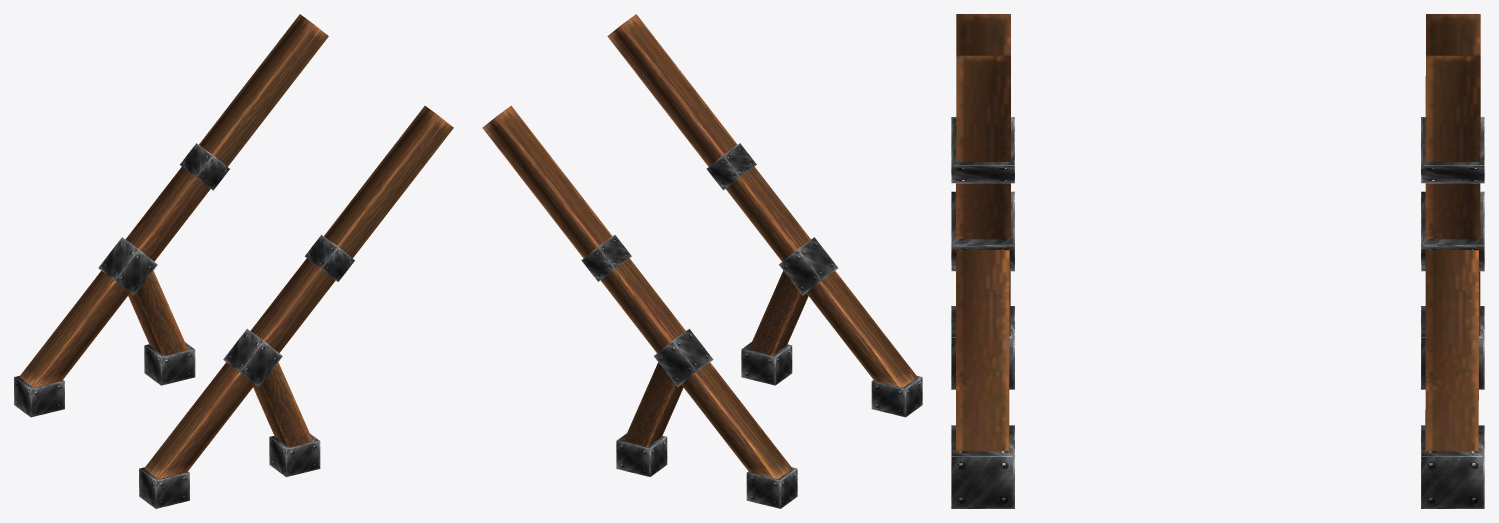
File: INST_SWORDLIGHT_WATERWHLMOUNT.fbx
3 renders of one model, left to right at view 1: azimuth 30°, elevation 25°; view 2: azimuth 150°, elevation 25°; view 3: azimuth 270°, elevation 25°, orthographic. The views are drawn at different scales.
Visible parts, largest first — view 1: INST_SWORDLIGHT_WATERWHLMOUNT; view 2: INST_SWORDLIGHT_WATERWHLMOUNT; view 3: INST_SWORDLIGHT_WATERWHLMOUNT.
Boxes of the visible parts, x1,y1,x2,y2 form: INST_SWORDLIGHT_WATERWHLMOUNT: [14, 14, 453, 508]; INST_SWORDLIGHT_WATERWHLMOUNT: [482, 14, 922, 508]; INST_SWORDLIGHT_WATERWHLMOUNT: [951, 14, 1484, 508].
Bounding box in the file's own units: 110520 × 113725 × 90752.
2 materials, 2 textured.
